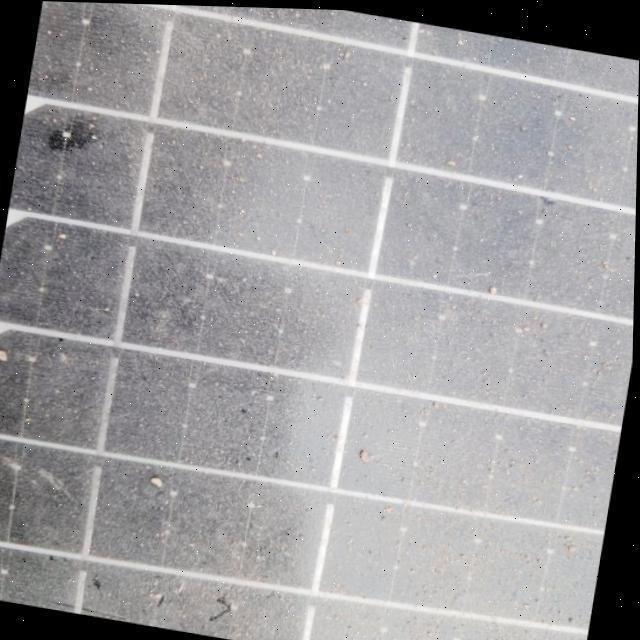Surface Contaminant: (0, 1, 639, 640)
